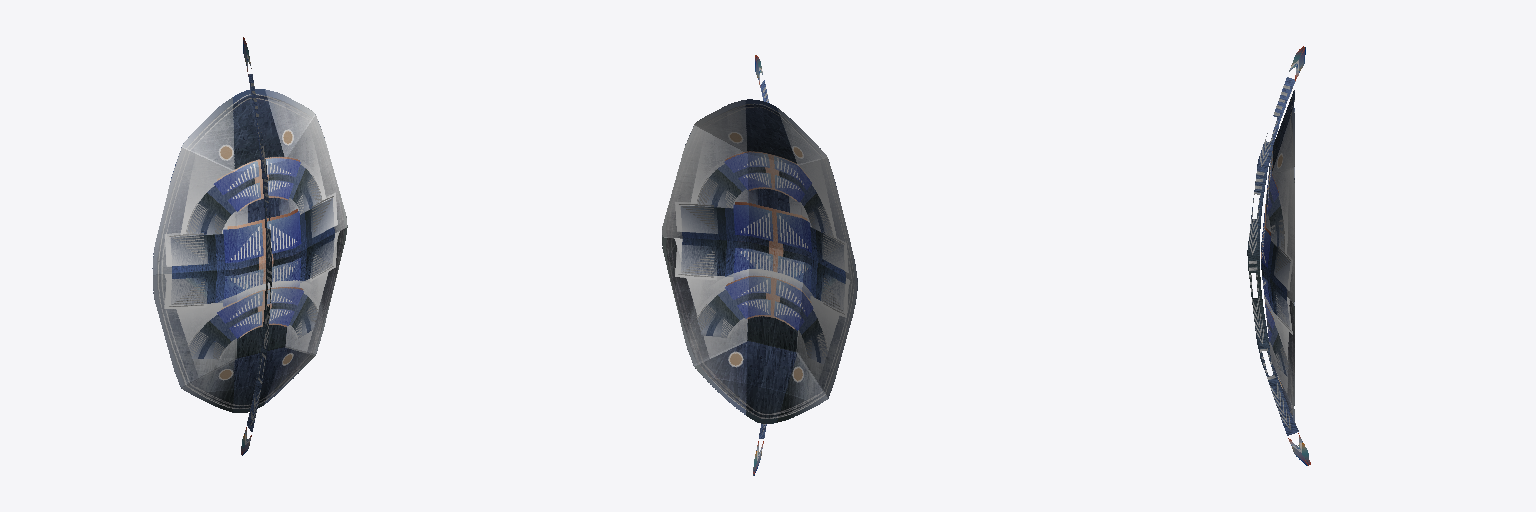
3 renders of one model, left to right at view 1: azimuth 30°, elevation 25°; view 2: azimuth 150°, elevation 25°; view 3: azimuth 270°, elevation 25°, orthographic.
Visible parts, largest first — view 1: shield_a, stick; view 2: shield_a; view 3: shield_a, stick.
Part boxes in pixels (bbox=[...]): shield_a: bbox=[152, 89, 347, 412]; stick: bbox=[241, 37, 271, 455]; shield_a: bbox=[662, 99, 857, 423]; shield_a: bbox=[1261, 90, 1294, 420]; stick: bbox=[1247, 46, 1310, 465].
Size of the model in its own units: 303 by 612 by 86.63.
Materials: 1 (1 with a texture image).